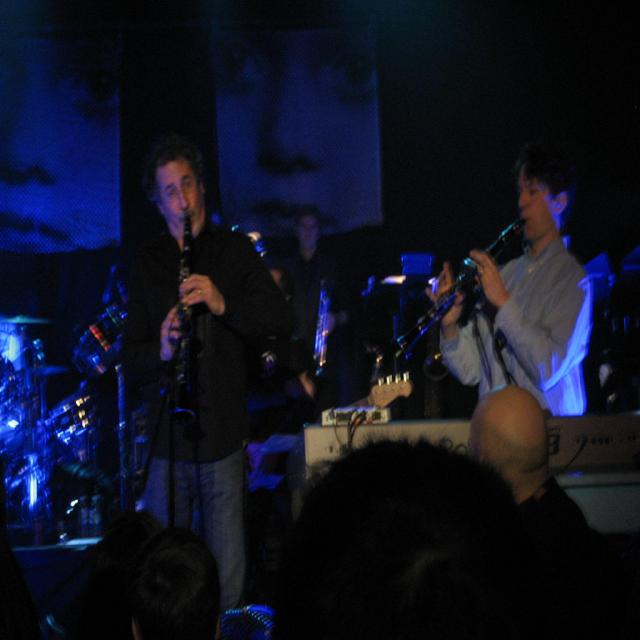clarinet: (387, 217, 527, 364), (171, 211, 198, 423)
drums: (0, 305, 129, 521)
